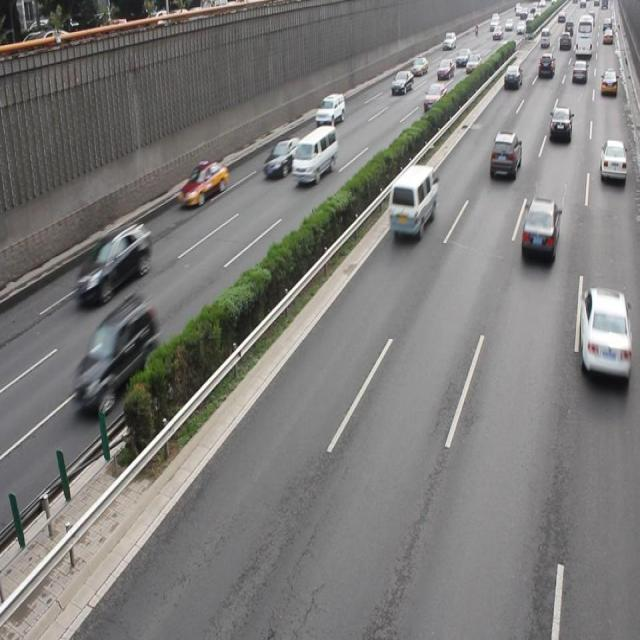car: (73, 293, 160, 415), (76, 221, 152, 305), (578, 286, 630, 382), (519, 196, 559, 261), (177, 158, 227, 208), (489, 131, 521, 180), (263, 137, 302, 177), (598, 136, 625, 182), (314, 92, 344, 124), (547, 105, 571, 144)
truck: (386, 163, 436, 236), (292, 123, 336, 183)
